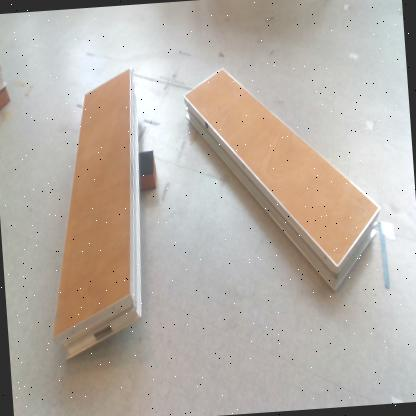Stairs: (184, 69, 382, 295), (54, 69, 144, 365), (1, 62, 8, 92)
